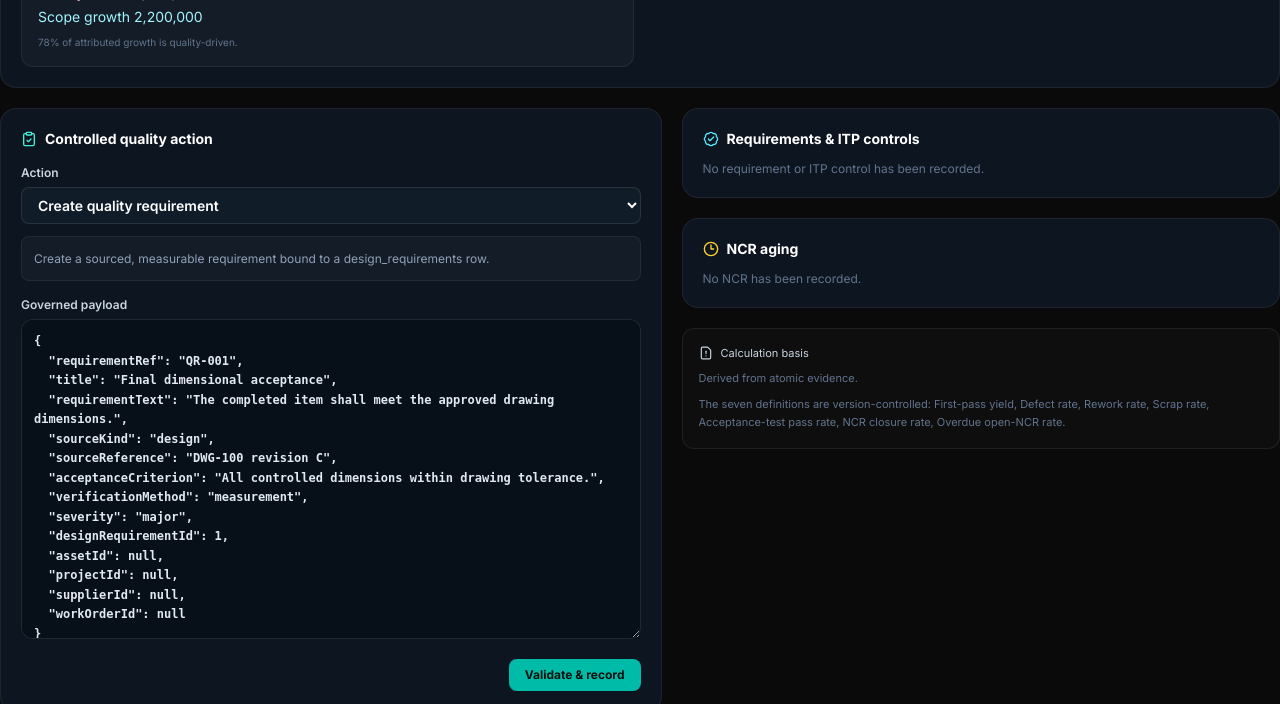
it: QualityManagementWorkbench › does not automatically replay a write after a lost acknowledgement
The width and height of the screenshot is (1280, 704).
(page scrolled)
Click the button "Validate & record" at coordinates (575, 675), box [509,659,641,691]
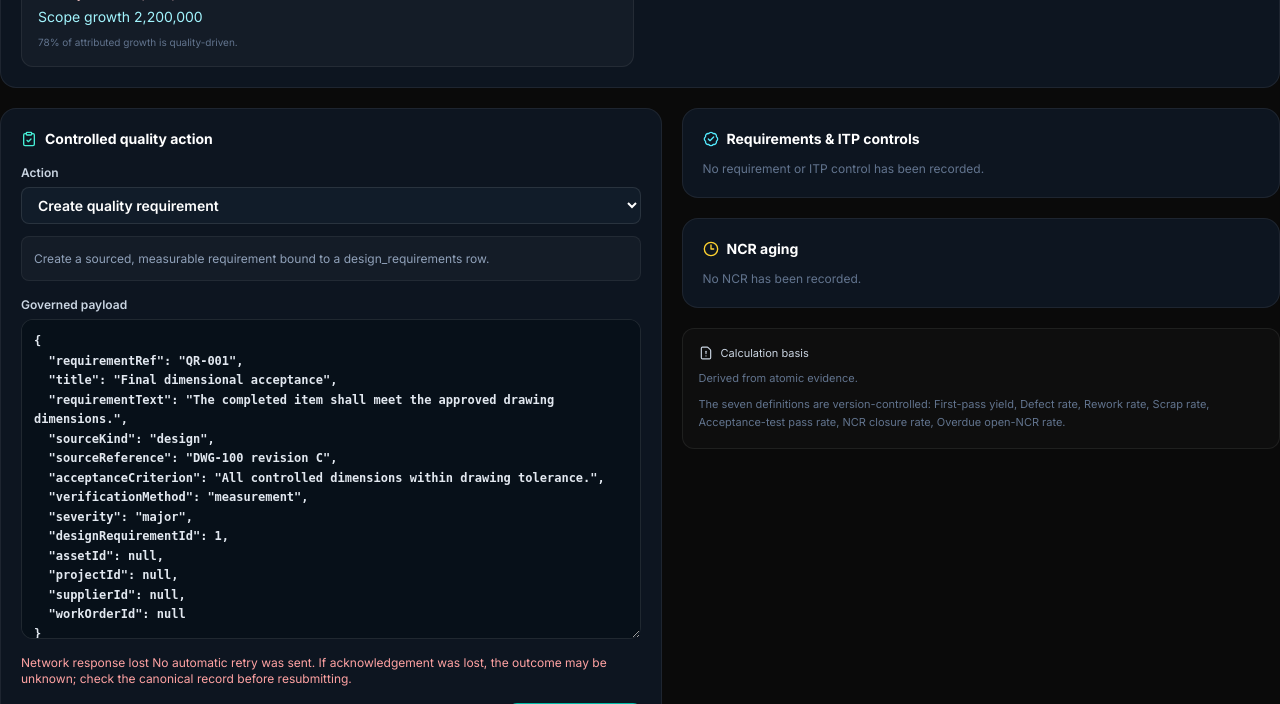
Check: the text "outcome may be unknown" is shown, box [21,655,607,686]
